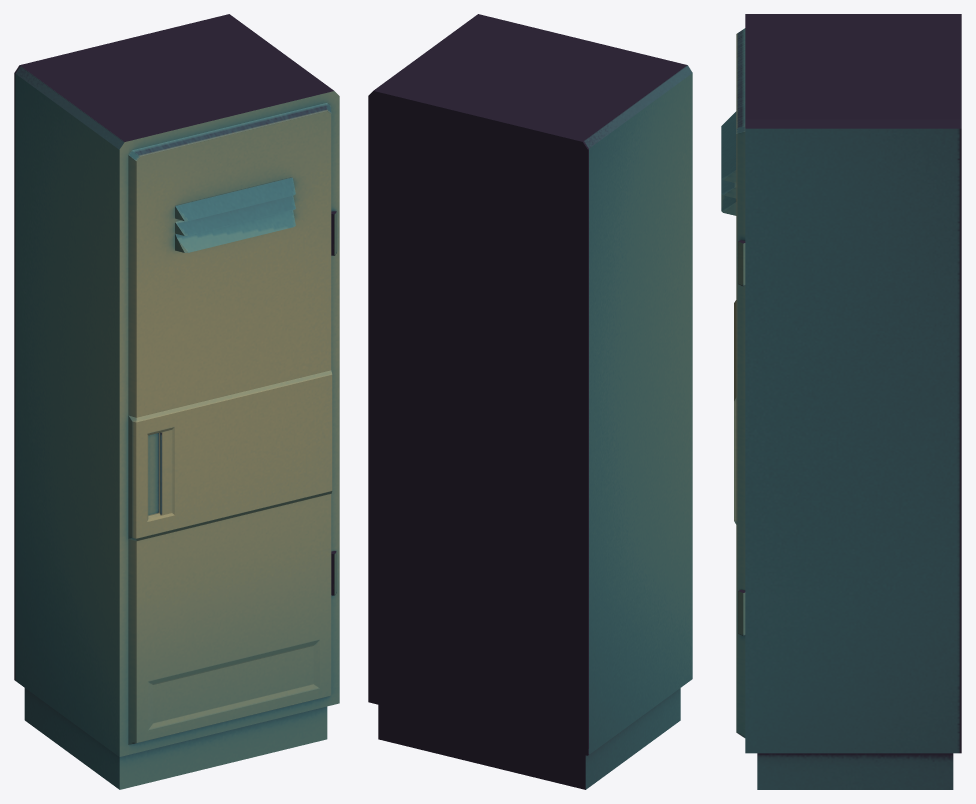
Rendered from Locker.glb.
The picture shows the model from 3 angles, left to right: view 1: azimuth 30°, elevation 25°; view 2: azimuth 150°, elevation 25°; view 3: azimuth 270°, elevation 25°; orthographic projection. The views are drawn at different scales.
Visible parts, largest first — view 1: Cabinet_door, Cabinet_body; view 2: Cabinet_body; view 3: Cabinet_body, Cabinet_door.
Boxes of the visible parts, x1,y1,x2,y2 form: Cabinet_door: [128, 103, 336, 744]; Cabinet_body: [14, 14, 339, 789]; Cabinet_body: [368, 14, 692, 789]; Cabinet_body: [745, 14, 961, 789]; Cabinet_door: [721, 28, 745, 737].
Size of the model in its own units: 0.7433 by 2.11 by 0.6829.
1 material, 1 textured.
